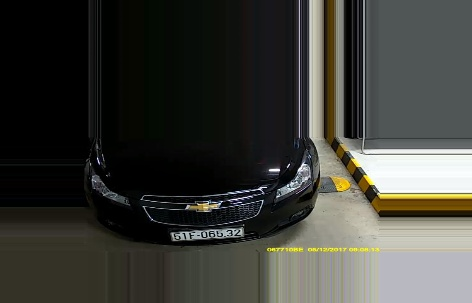plate: (169, 226, 243, 244)
